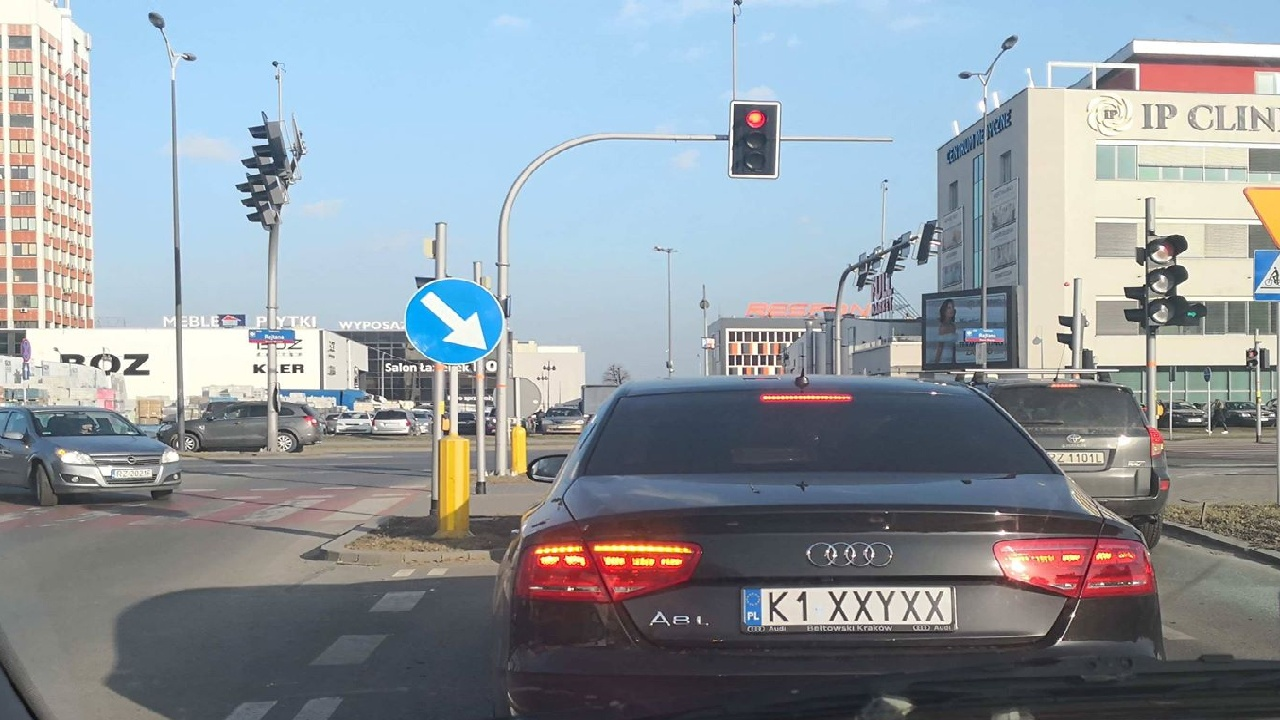C9: (404, 276, 503, 365)
Red: (741, 109, 766, 172)
